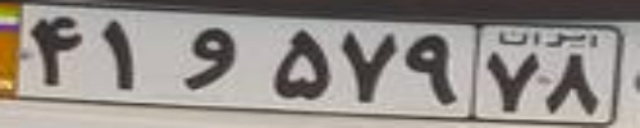1: (101, 19, 137, 91)
4: (28, 16, 85, 88)
5: (267, 26, 330, 100)
7: (339, 30, 400, 104), (484, 50, 540, 114)
8: (545, 52, 602, 117)
9: (408, 31, 457, 106)
vav: (177, 26, 233, 91)
